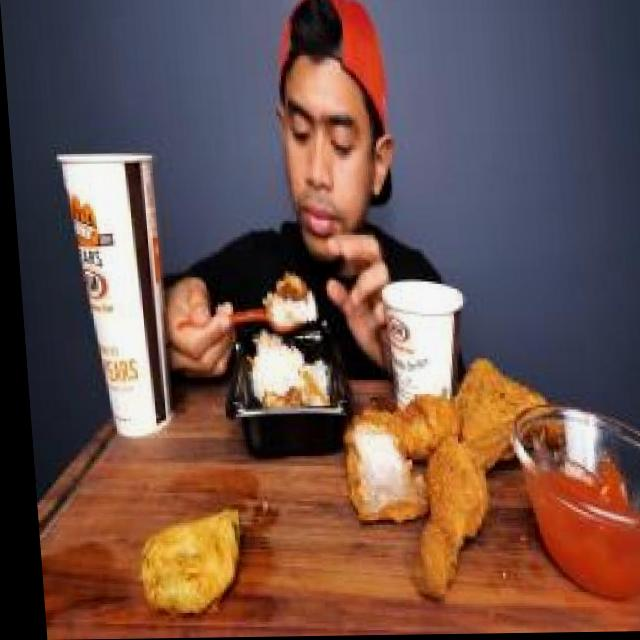AW cola: (43, 128, 177, 458)
black pepper rice bowl: (234, 294, 341, 450)
crispy corn: (376, 272, 483, 421)
fried chicken: (331, 349, 553, 589)
perkedel: (114, 488, 247, 634)
